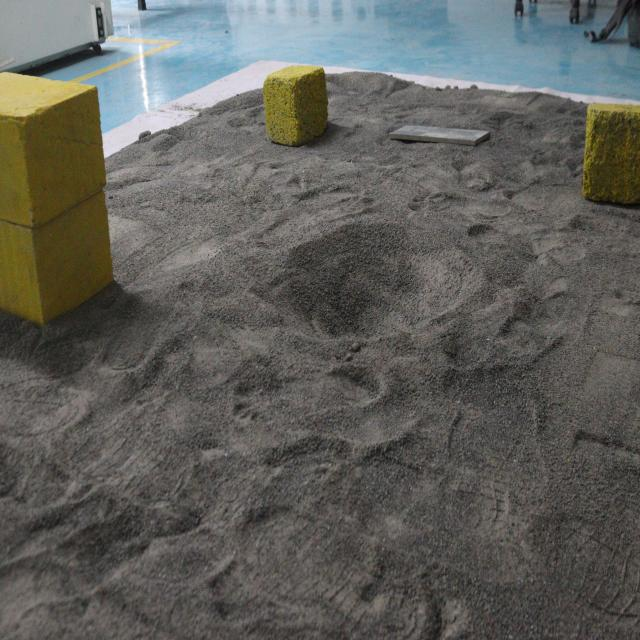box: (0, 59, 117, 335), (572, 100, 640, 214), (258, 63, 330, 153)
crater: (270, 207, 491, 362)
